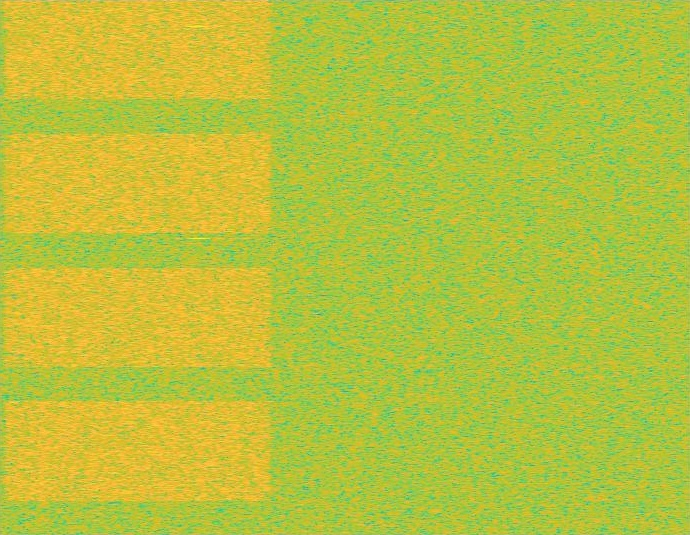5G: (0, 0, 276, 534)
Radar: (192, 0, 205, 534)
